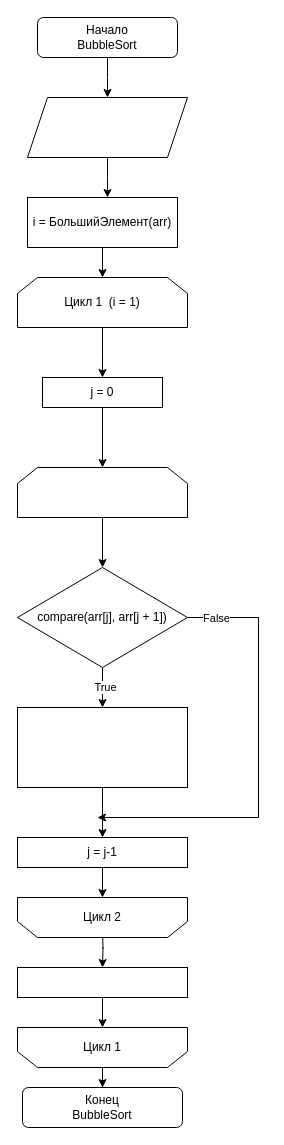
The diagram is 284 pixels wide and 1145 high, and some of its shapes have lost their labels. Each missing label, with the centre of its shape:
i = i-1: (102,982)
temp = arr[j] arr[j] = arr[j + 1] arr[j + 1] = temp: (102,747)
Ввести arr,compare: (107,127)
Цикл 2 (j = i-1): (102,492)
